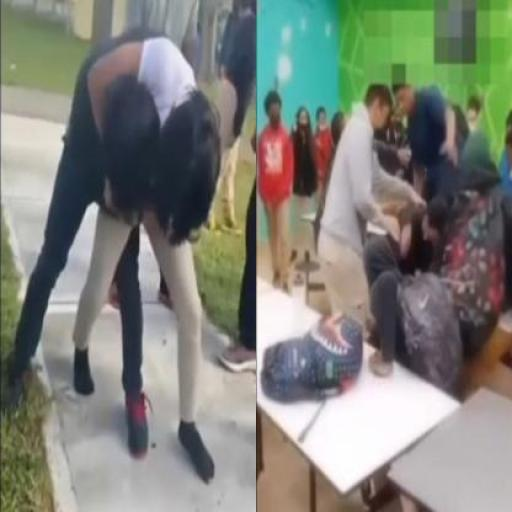Fighting: (2, 24, 230, 484), (285, 78, 511, 370)
